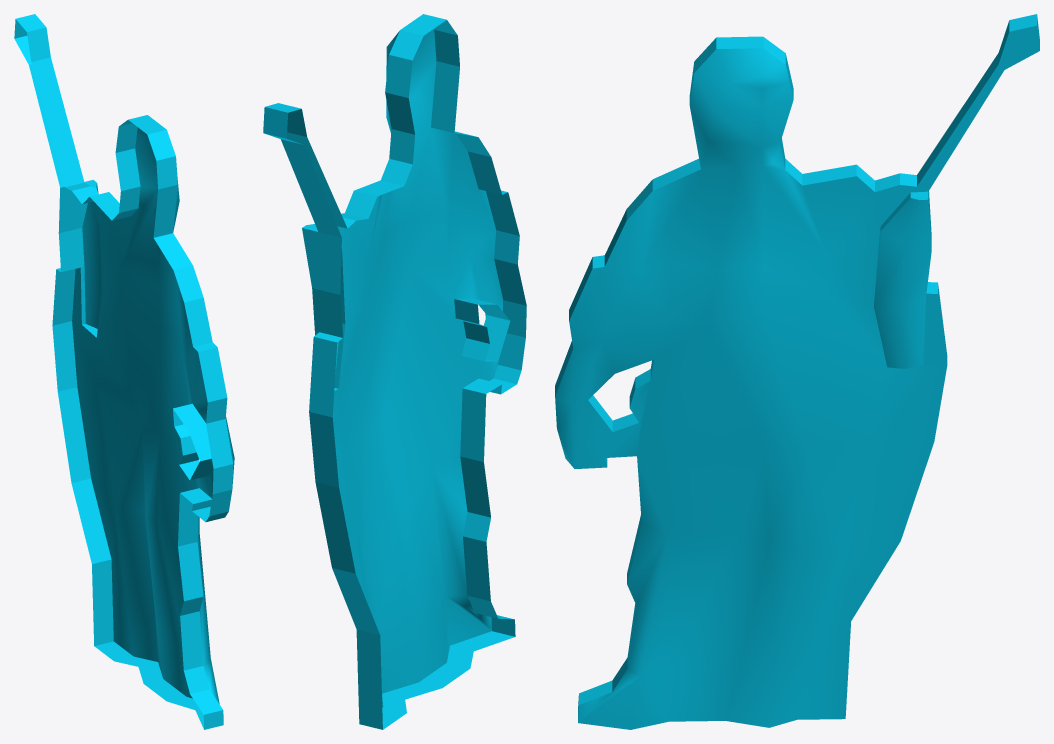
3 views of the same model, side by side, from view 1: azimuth 30°, elevation 25°; view 2: azimuth 150°, elevation 25°; view 3: azimuth 270°, elevation 25° (orthographic). The views are drawn at different scales.
Parts seen in each view (by area): view 1: Object073; view 2: Object073; view 3: Object073.
Boxes of the visible parts, bbox=[...] form: Object073: bbox=[14, 14, 234, 729]; Object073: bbox=[263, 14, 526, 729]; Object073: bbox=[555, 14, 1039, 729].
Size of the model in its own units: 24.41 by 402 by 253.
